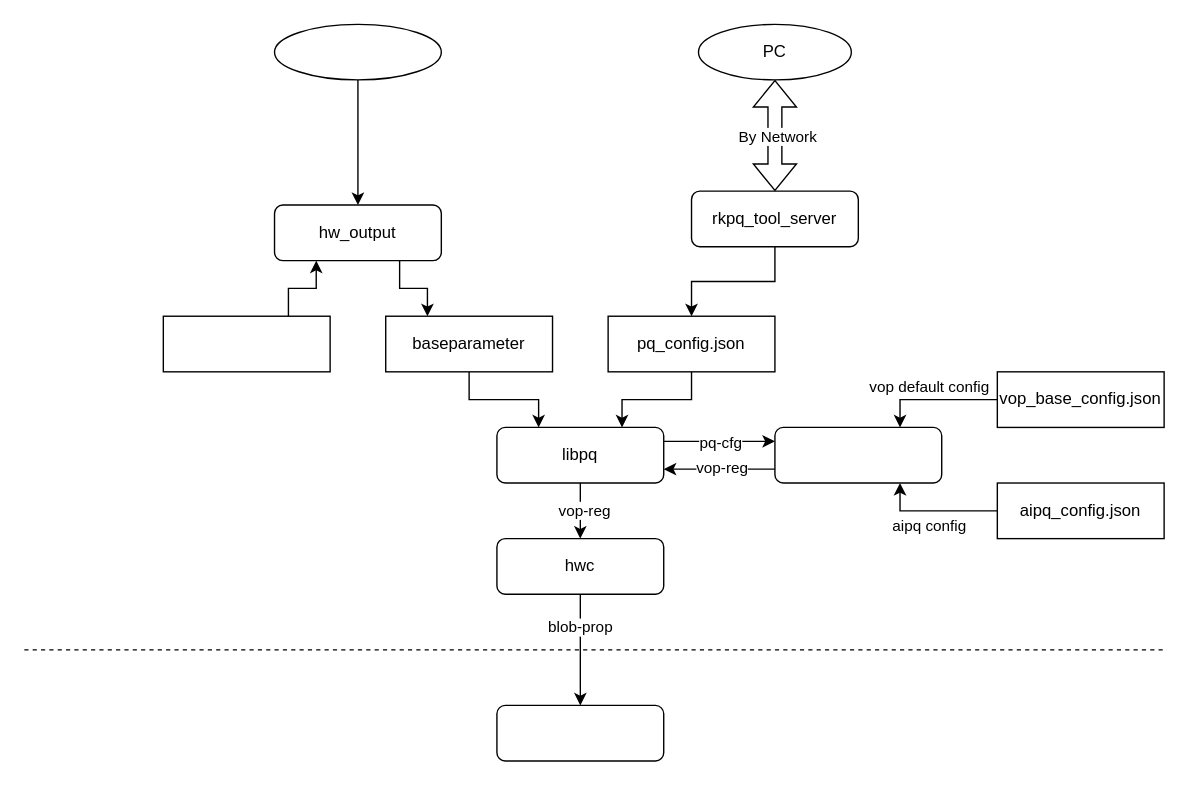
Image size: 1190x785. Some labels were removed from this diagram. Here are the shapes that lost their labels. From the top down, the box of each, then its label:
(273, 23, 441, 80): PQ API
(162, 315, 330, 372): pq_setting_config.json
(774, 426, 942, 483): librkhwpq
(496, 704, 664, 761): drm-kernel
